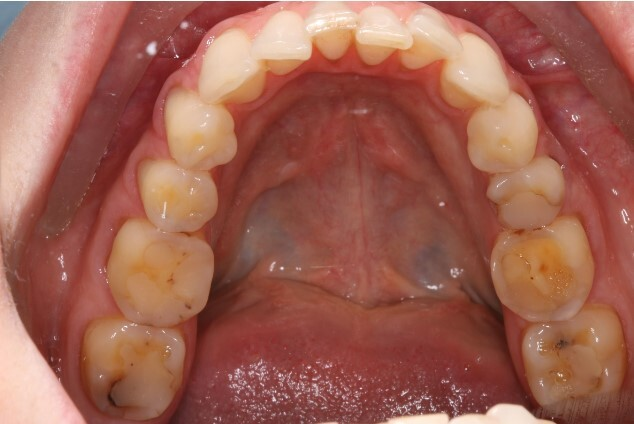UL1BC_healthy: (465, 97, 541, 177)
UL1M_decay: (490, 216, 594, 319)
UL2BC_decay: (480, 154, 567, 230)
UL2M_decay: (525, 303, 622, 405)
ULCI_healthy: (354, 7, 411, 75)
ULC_healthy: (436, 38, 508, 114)
ULLI_healthy: (402, 8, 460, 74)
UR1BC_healthy: (164, 87, 239, 167)
UR1M_decay: (104, 220, 208, 323)
UR2BC_healthy: (133, 157, 217, 232)
UR2M_decay: (74, 320, 186, 424)
URCI_healthy: (309, 5, 358, 64)
URC_healthy: (199, 32, 265, 106)
URLI_healthy: (250, 12, 310, 75)
